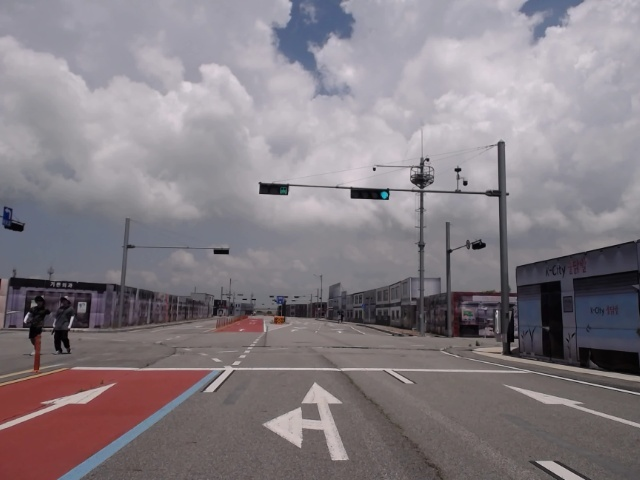straight_green_4: (349, 189, 390, 201)
